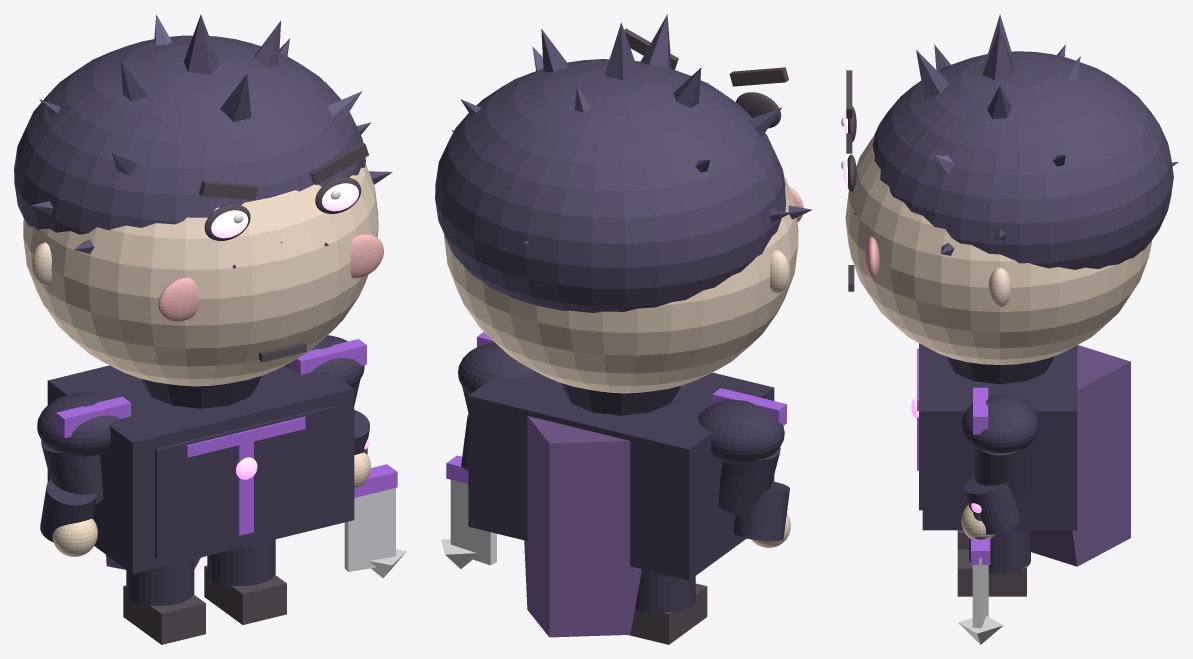
Rendered from ashen.glb.
3 renders of one model, left to right at view 1: azimuth 30°, elevation 25°; view 2: azimuth 150°, elevation 25°; view 3: azimuth 270°, elevation 25°, orthographic. The views are drawn at different scales.
Parts seen in each view (by area): view 1: HairCap, Head, Coat, CoatFront, SwordBlade, Pauldron_L, Shoe_L, Shoe_R, Leg_L, Leg_R, Collar, UpperArm_L (+22 smaller); view 2: HairCap, Coat, Head, Cape, Pauldron_L, UpperArm_L, Collar, Shoe_L, Pauldron_R, Forearm_L, Leg_L, SwordBlade (+8 smaller); view 3: HairCap, Head, Coat, Cape, Pauldron_R, Forearm_R, UpperArm_R, Collar, Leg_R, Shoe_R, SwordBlade, Hair_00 (+9 smaller).
Boxes of the visible parts, bbox=[...] form: HairCap: bbox=[14, 35, 365, 234]; Head: bbox=[23, 162, 378, 386]; Coat: bbox=[47, 365, 354, 573]; CoatFront: bbox=[155, 406, 334, 558]; SwordBlade: bbox=[344, 488, 395, 571]; Pauldron_L: bbox=[37, 392, 119, 456]; Shoe_L: bbox=[123, 585, 205, 644]; Shoe_R: bbox=[204, 565, 286, 624]; Leg_L: bbox=[126, 559, 194, 606]; Leg_R: bbox=[207, 539, 275, 587]; Collar: bbox=[141, 376, 261, 408]; UpperArm_L: bbox=[41, 440, 103, 503]; HairCap: bbox=[435, 59, 785, 312]; Coat: bbox=[468, 372, 774, 580]; Head: bbox=[444, 174, 798, 393]; Cape: bbox=[524, 416, 641, 637]; Pauldron_L: bbox=[698, 400, 784, 463]; UpperArm_L: bbox=[718, 447, 780, 515]; Collar: bbox=[561, 383, 680, 415]; Shoe_L: bbox=[629, 583, 707, 644]; Pauldron_R: bbox=[458, 342, 537, 394]; Forearm_L: bbox=[733, 481, 789, 541]; Leg_L: bbox=[635, 569, 695, 613]; SwordBlade: bbox=[450, 480, 496, 565]; HairCap: bbox=[872, 51, 1173, 269]; Head: bbox=[845, 134, 1151, 364]; Coat: bbox=[922, 345, 1077, 530]; Cape: bbox=[1031, 345, 1130, 566]; Pauldron_R: bbox=[961, 394, 1038, 452]; Forearm_R: bbox=[964, 477, 1020, 534]; UpperArm_R: bbox=[975, 448, 1025, 499]; Collar: bbox=[946, 356, 1053, 384]; Leg_R: bbox=[969, 530, 1030, 573]; Shoe_R: bbox=[957, 549, 1026, 596]; SwordBlade: bbox=[972, 558, 988, 634]; Hair_00: bbox=[982, 27, 1013, 80].
Bounding box in the file's own units: 1.27 × 2 × 1.13.
